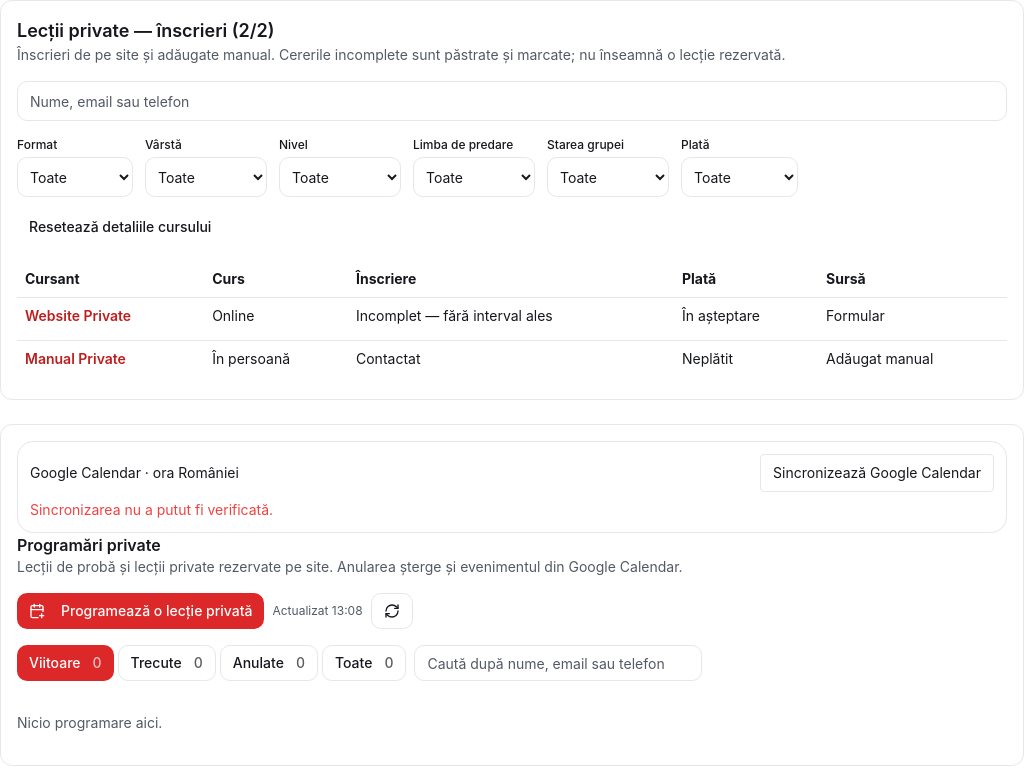
private lessons section › includes website, manual and incomplete private enrolments, but not groups
Expected: the button "Website Private" is shown, [25,306,131,326]
Expected: the button "Manual Private" is shown, [25,349,126,369]
Select "În persoană" in the dropdown labelled "Format" at (75, 177), box [17,157,133,197]
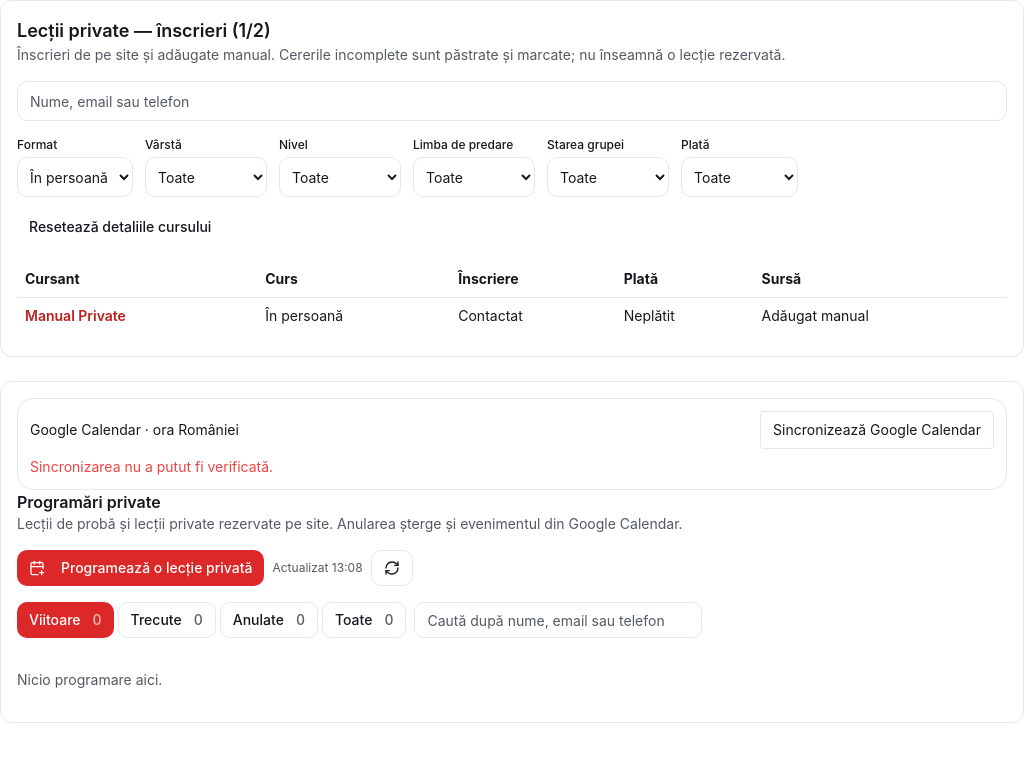
Expected: the button "Manual Private" is shown, [25,306,126,326]
Result: the button "Website Private" is gone
